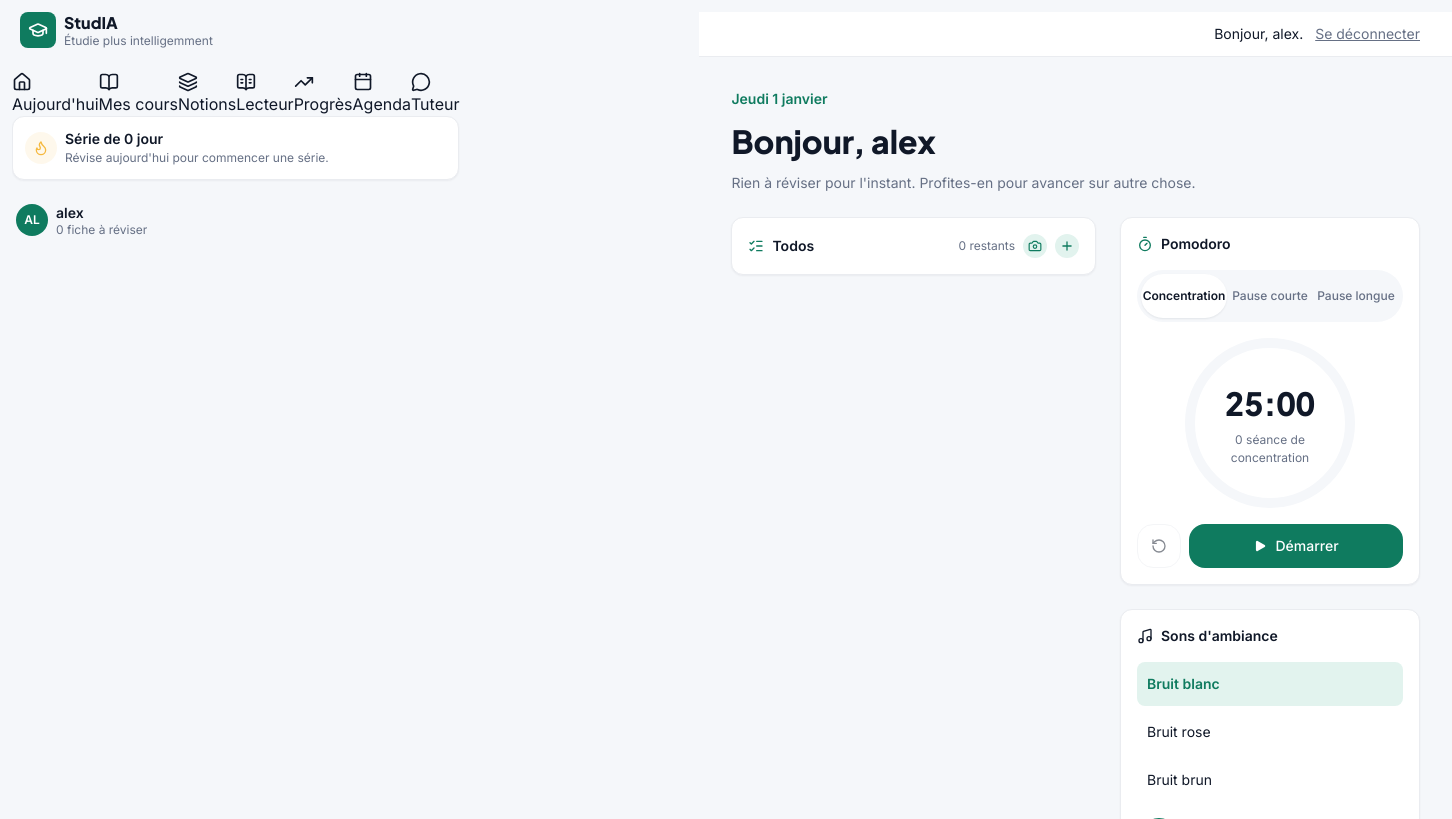
it: App › Lecteur is reachable directly from the nav, showing a course pill selector and the first course's own content immediately, no back link
This screenshot has width=1452, height=819.
Expected: the text "Bonjour, alex." is shown, [1214,24,1303,44]
Step 1. Click the button "Lecteur" → (265, 94), box [236,72,294,116]
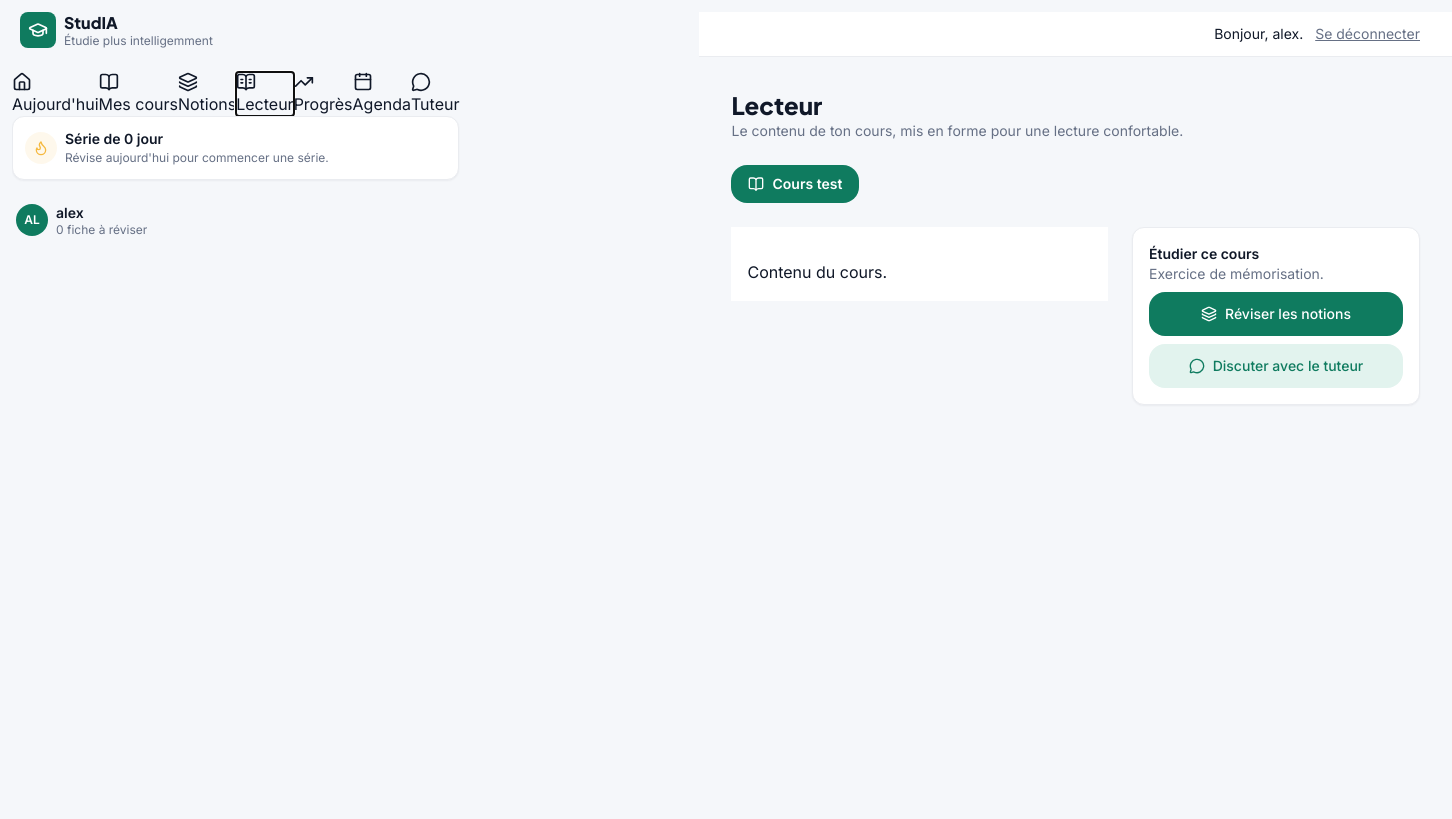
Now the heading "Lecteur" is shown, box [732,90,822,120]
Now the text "Contenu du cours." is shown, box [748,262,887,282]
